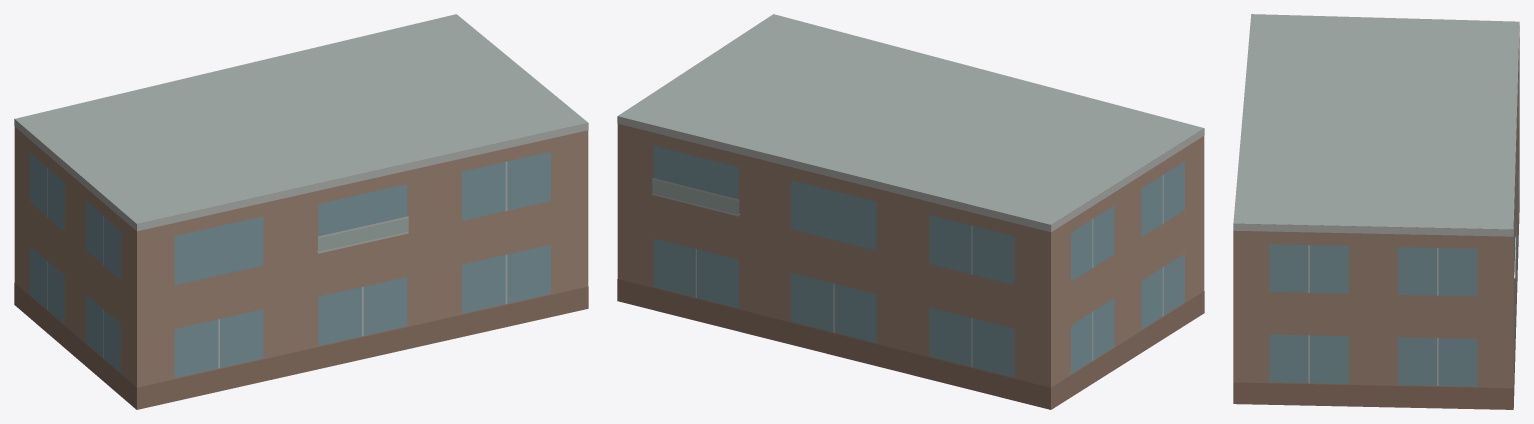
Rendered from survey-upis-32563877.glb.
3 renders of one model, left to right at view 1: azimuth 30°, elevation 25°; view 2: azimuth 150°, elevation 25°; view 3: azimuth 270°, elevation 25°, orthographic. The views are drawn at different scales.
Visible parts, largest first — view 1: survey-upis-32563877.tmp; view 2: survey-upis-32563877.tmp; view 3: survey-upis-32563877.tmp.
Part boxes in pixels (x1,y1,x2,y2): survey-upis-32563877.tmp: (14, 14, 588, 409); survey-upis-32563877.tmp: (617, 14, 1204, 409); survey-upis-32563877.tmp: (1233, 14, 1519, 409).
Bounding box in the file's own units: 15.63 × 6.1 × 8.78.
